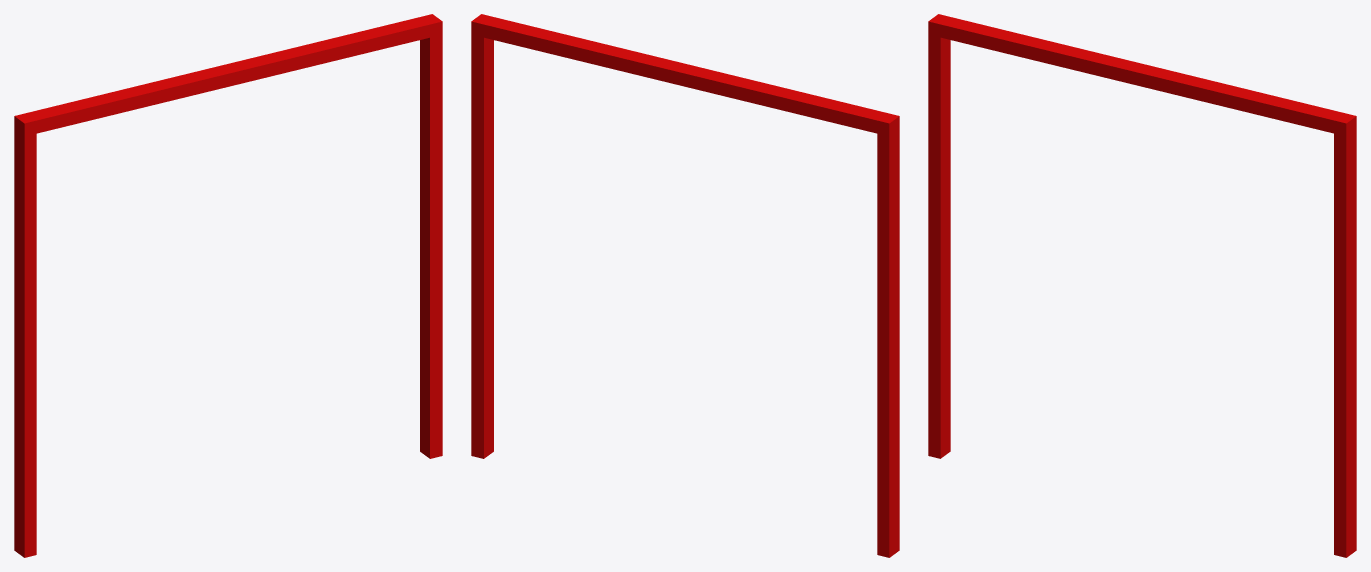
Rendered from SM_DoubleDoorAFrameCollider.fbx.
3 views of the same model, side by side, from view 1: azimuth 30°, elevation 25°; view 2: azimuth 150°, elevation 25°; view 3: azimuth 330°, elevation 25° (orthographic).
Parts seen in each view (by area): view 1: DoubleDoorAFrameCollision; view 2: DoubleDoorAFrameCollision; view 3: DoubleDoorAFrameCollision.
Part boxes in pixels (x1,y1,x2,y2): DoubleDoorAFrameCollision: [14, 14, 442, 557]; DoubleDoorAFrameCollision: [471, 14, 899, 557]; DoubleDoorAFrameCollision: [928, 14, 1356, 557].
Bounding box in the file's own units: 250 × 248 × 10.57.
